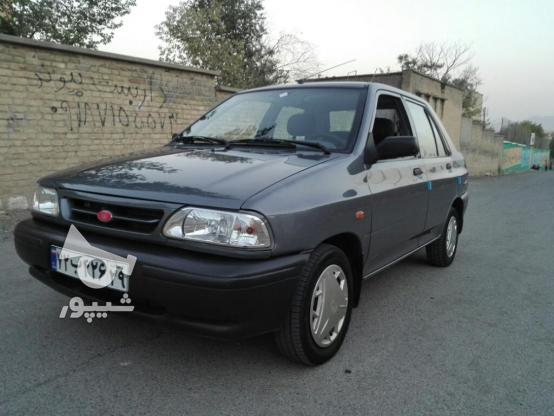car: (48, 243, 132, 294)
